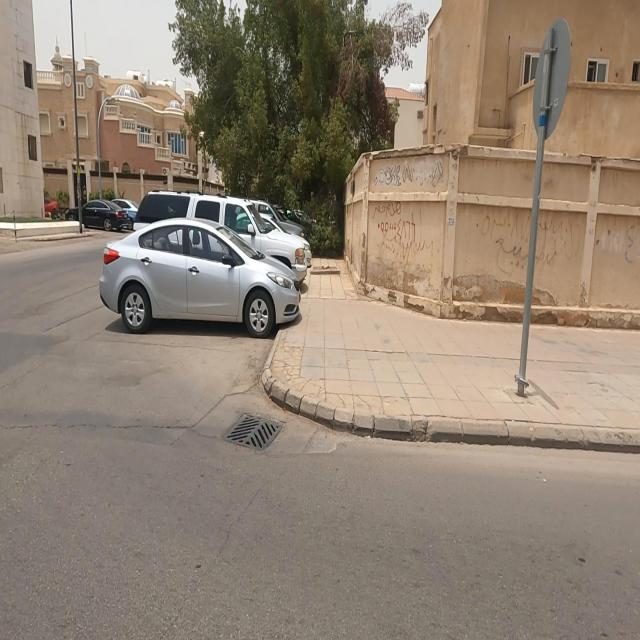Graffiti: (474, 209, 585, 277), (372, 202, 436, 274), (375, 161, 447, 193), (597, 219, 638, 270)
